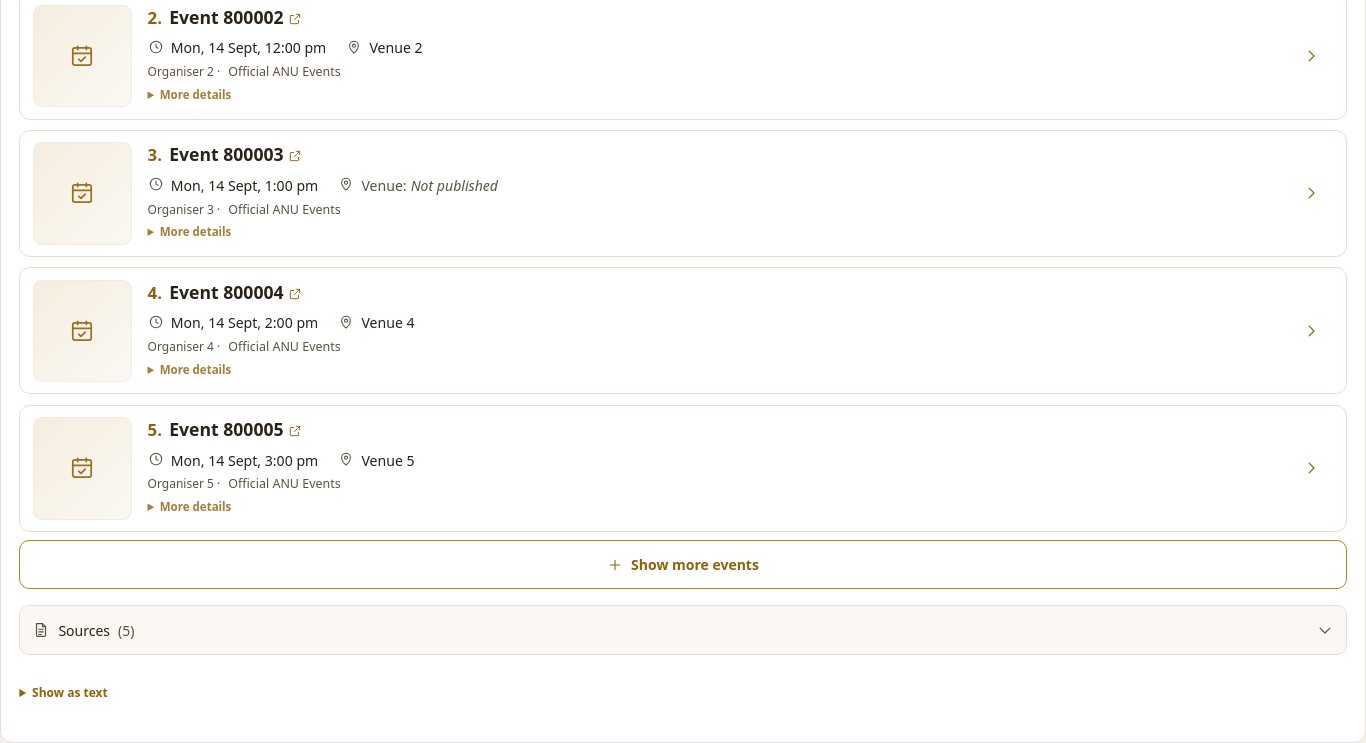
Test: Show more › is offered once only, and not at all on the last page
(page scrolled)
What coordinates should you click on to do the following:
click the button "Show more events"
I would click on:
 (683, 565)
Its box is [19,540,1347,589].
(page scrolled)
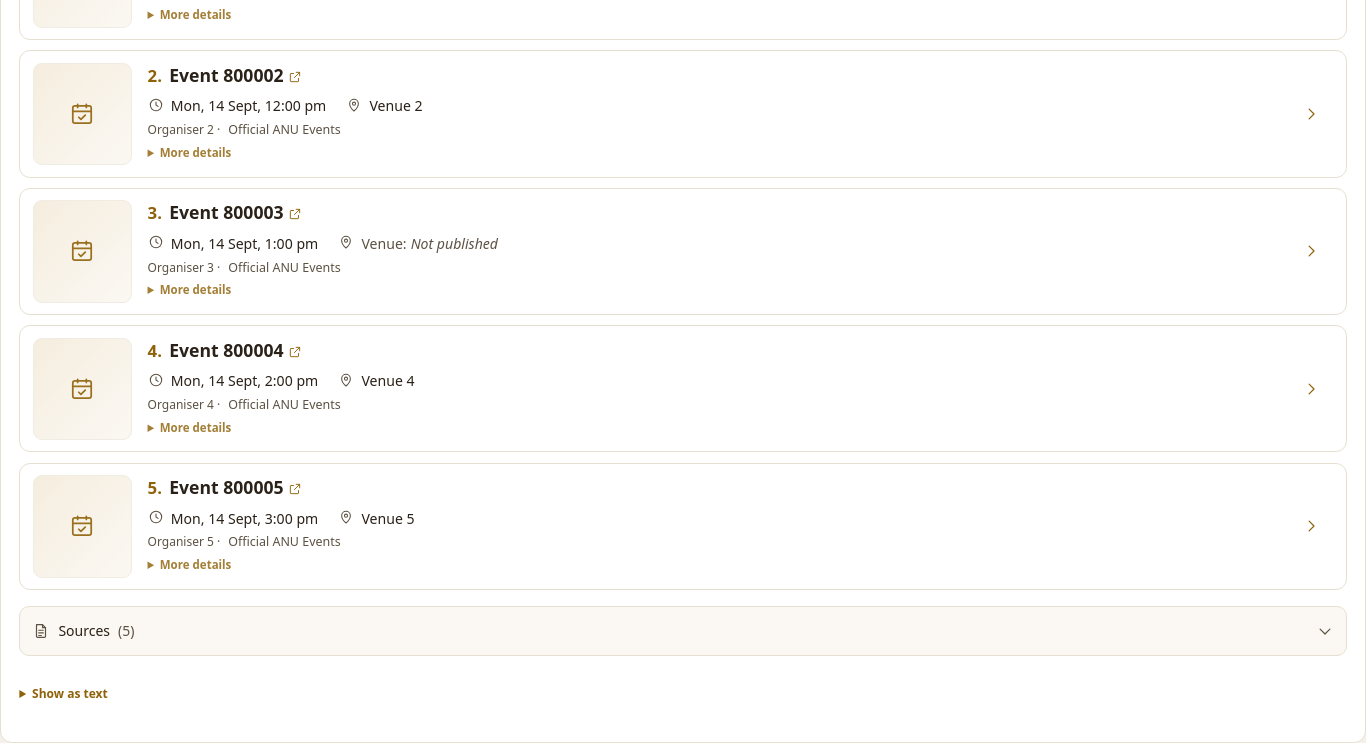
Expected: the button "Show more" is gone
